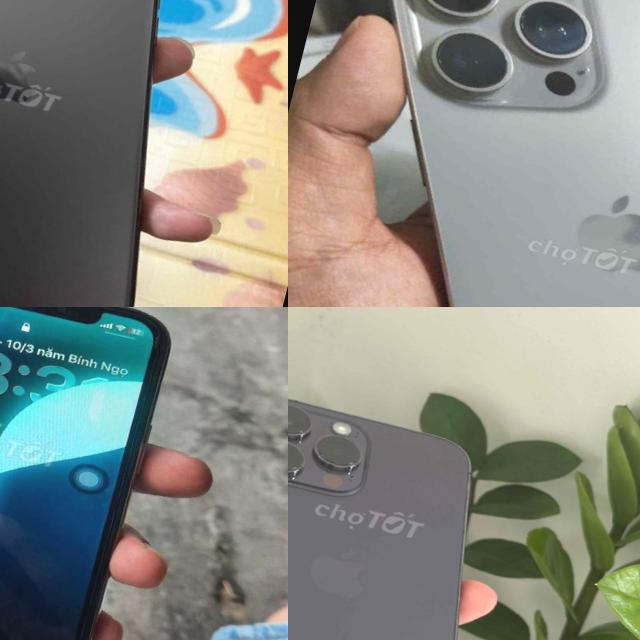scratch: (390, 0, 609, 124)
